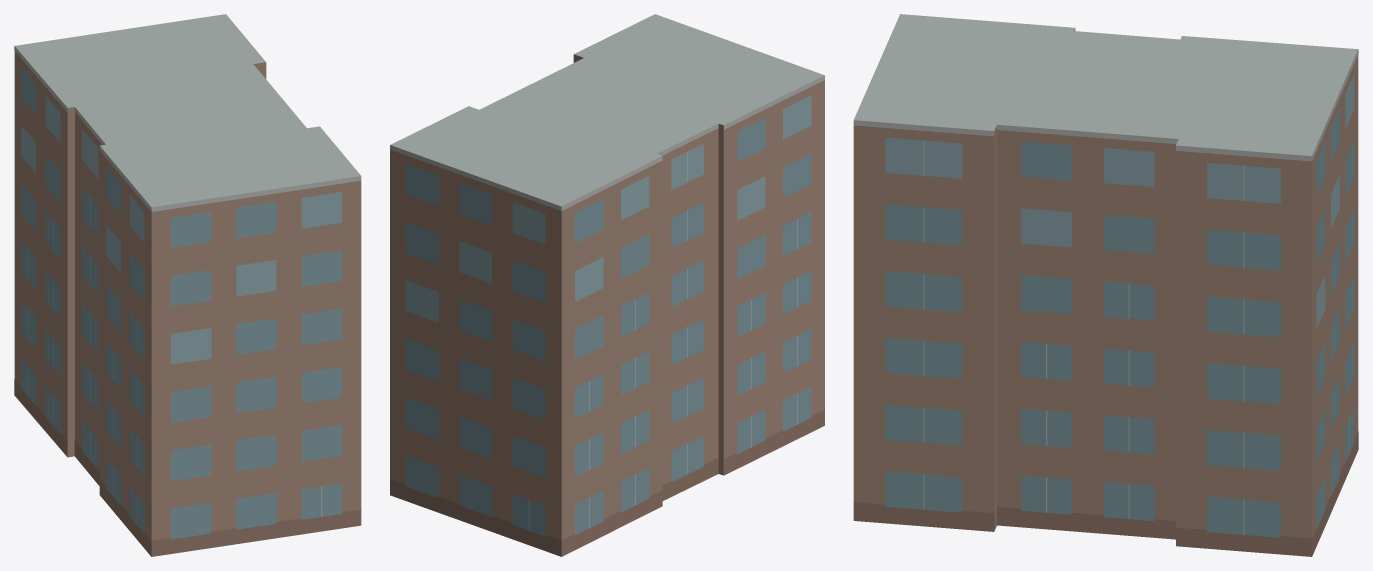
File: survey-upis-32898764.glb
3 renders of one model, left to right at view 1: azimuth 30°, elevation 25°; view 2: azimuth 150°, elevation 25°; view 3: azimuth 270°, elevation 25°, orthographic. The views are drawn at different scales.
Parts seen in each view (by area): view 1: survey-upis-32898764.tmp; view 2: survey-upis-32898764.tmp; view 3: survey-upis-32898764.tmp.
Boxes of the visible parts, box(x1,y1,x2,y2) form: survey-upis-32898764.tmp: box(14, 14, 361, 556); survey-upis-32898764.tmp: box(390, 14, 824, 556); survey-upis-32898764.tmp: box(853, 14, 1358, 556).
Bounding box in the file's own units: 14.01 × 18.4 × 21.02.
